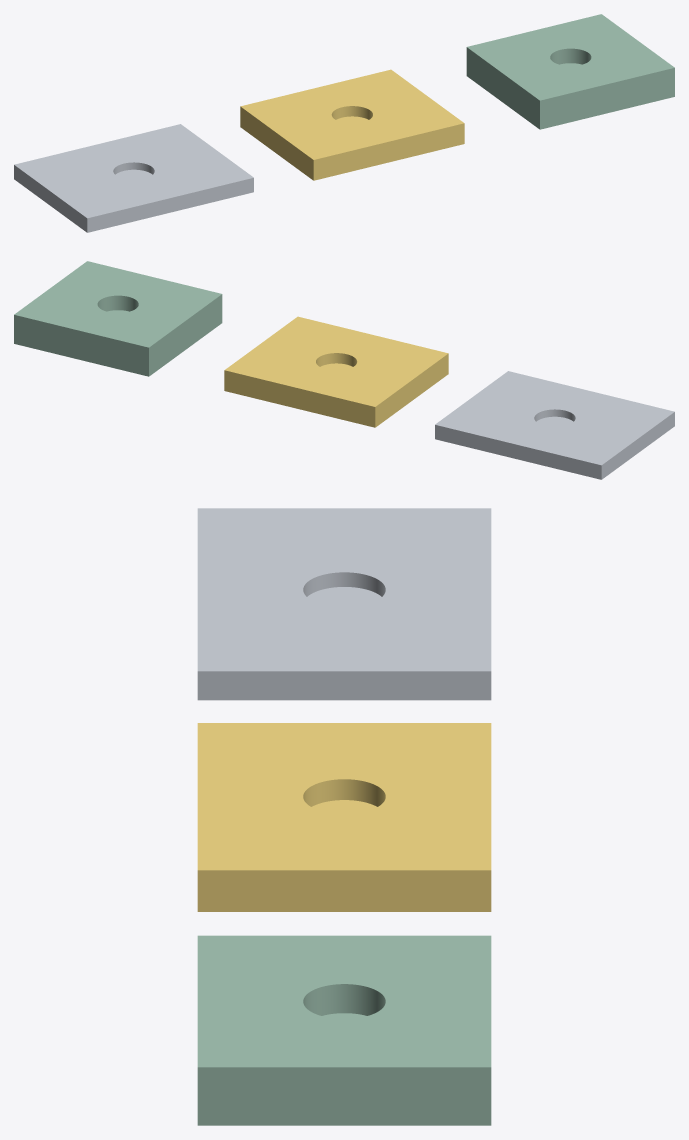
File: pareto.glb
The picture shows the model from 3 angles, top to bottom: view 1: azimuth 30°, elevation 25°; view 2: azimuth 150°, elevation 25°; view 3: azimuth 270°, elevation 25°; orthographic projection. The views are drawn at different scales.
Visible parts, largest first — view 1: alt_b, winner, alt_a; view 2: alt_b, winner, alt_a; view 3: alt_a, alt_b, winner.
Boxes of the visible parts, x1,y1,x2,y2 form: alt_b: (466,14,674,129); winner: (240,69,464,180); alt_a: (14,124,253,232); alt_b: (14,261,222,376); winner: (224,316,448,427); alt_a: (435,371,674,479); alt_a: (197,508,491,700); alt_b: (197,935,491,1125); winner: (197,723,491,911).
Size of the model in its own units: 296 by 14 by 64.
